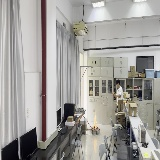fire: (92, 111, 97, 129)
